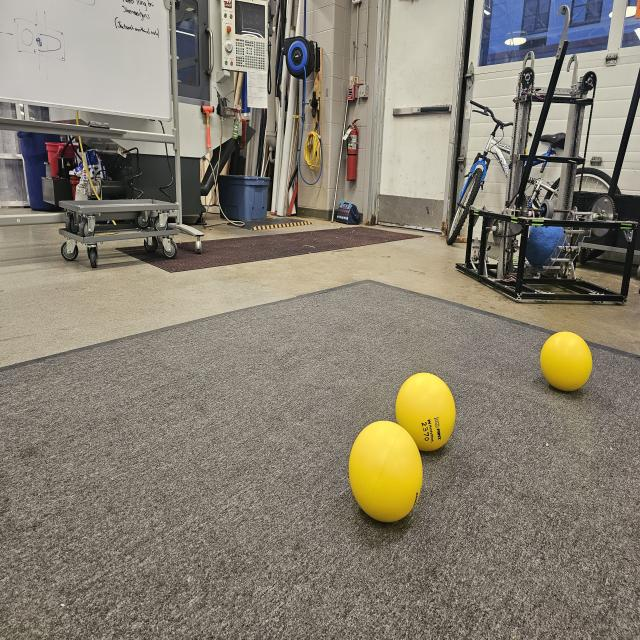Fuel: (350, 419, 423, 522), (396, 372, 456, 454), (541, 332, 591, 391)
